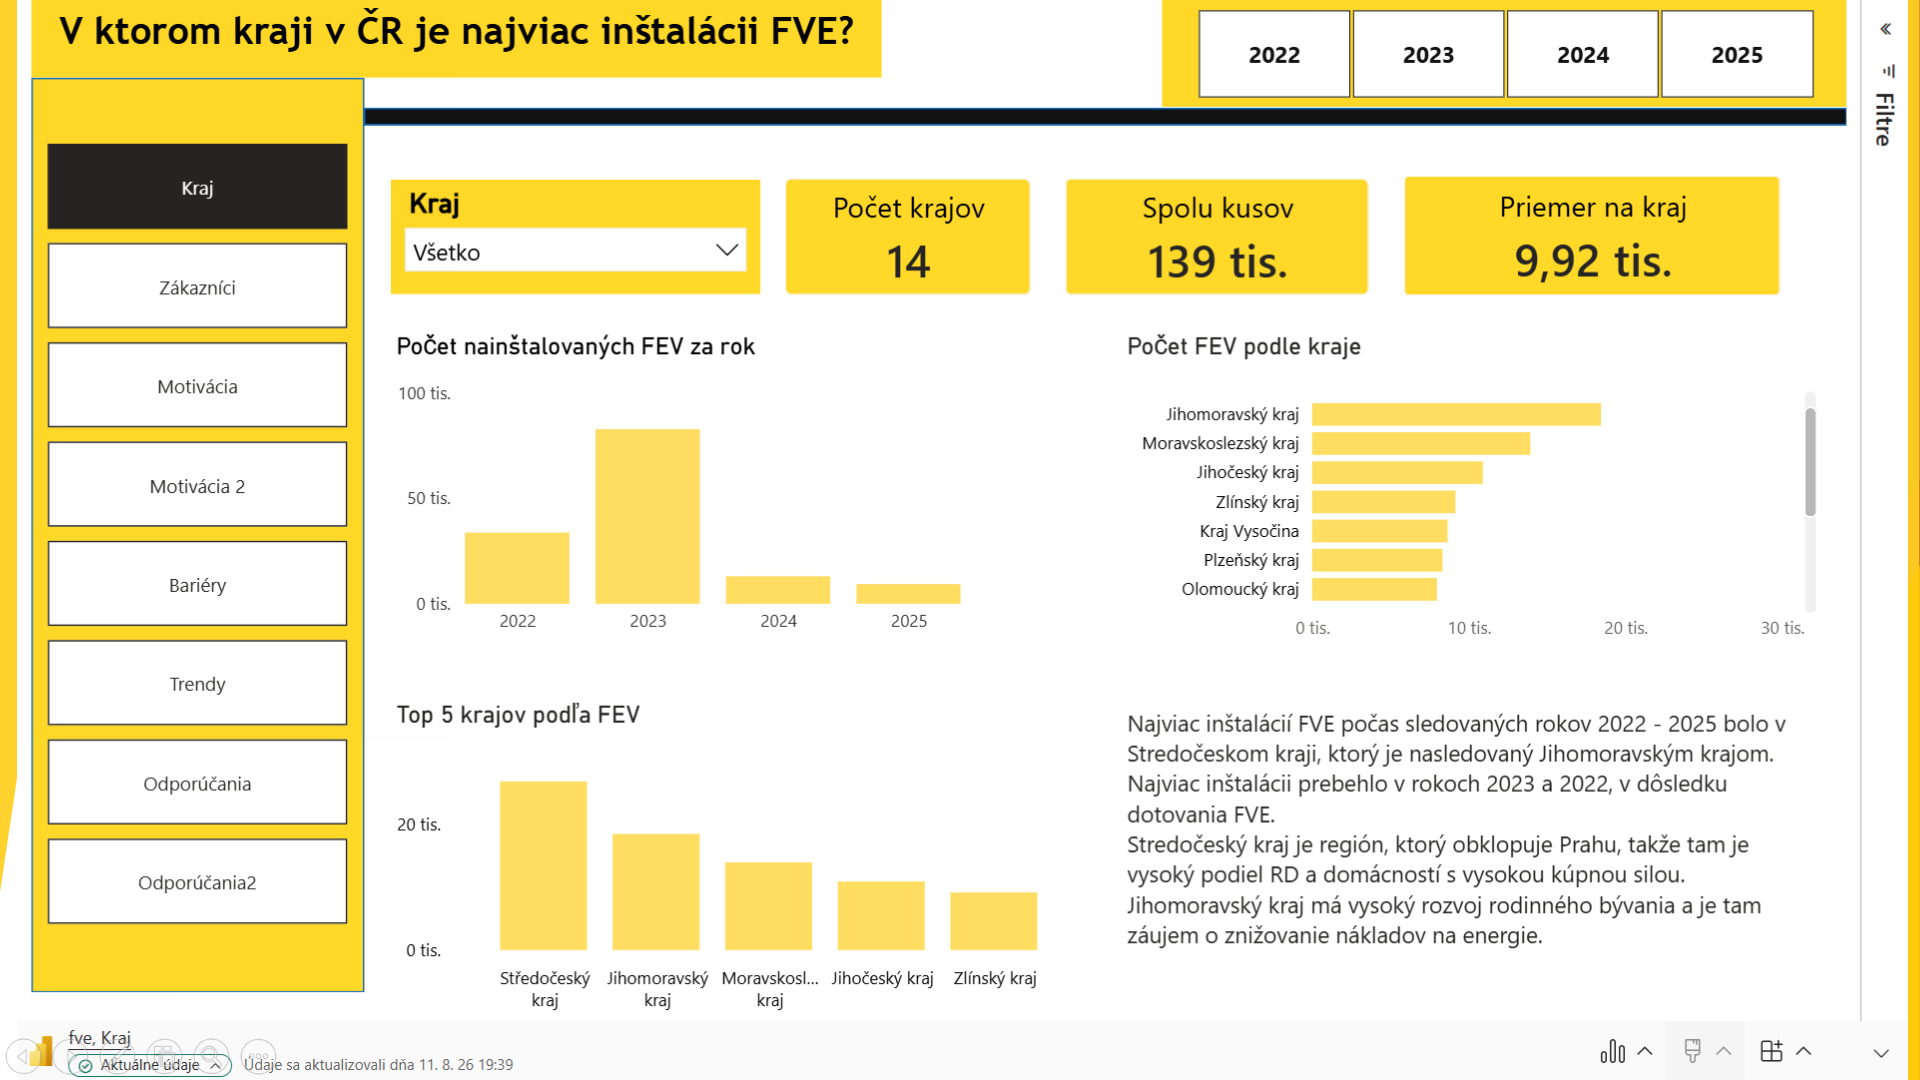

This screenshot's page, from the dashboard's own definition file:
{"tool":"powerbi","page":{"name":"Kraj","canvas":[1280,720],"ordinal":0},"visuals":[{"type":"shape","box":[0,54.9,234.6,644.9],"z":0},{"type":"textbox","box":[0,0,599.7,54.9],"z":1000},{"type":"shape","box":[234.3,75.7,1045.6,12.3],"z":2000},{"type":"slicer","fields":{"Values":["FVE_CR_2022_2026.Rok"]},"box":[797.1,0,483,75.5],"z":3000},{"type":"slicer","fields":{"Values":["FVE_CR_2022_2026.Kraj"]},"box":[252.9,127.1,260.7,81],"z":4000},{"type":"columnChart","title":"Počet nainštalovaných FEV za rok","fields":{"Category":["FVE_CR_2022_2026.Rok"],"Y":["Sum(FVE_CR_2022_2026.Počet ks)"]},"box":[252.5,233.3,407.5,222.3],"z":5000},{"type":"clusteredBarChart","title":"Počet FEV podle kraje","fields":{"Category":["FVE_CR_2022_2026.Kraj"],"Y":["Sum(FVE_CR_2022_2026.Počet ks)"]},"box":[767.1,233.3,495.4,227.8],"z":6000},{"type":"cardVisual","fields":{"Data":["FVE_CR_2022_2026.pocet-kusov"]},"box":[711.4,108.6,248.4,116.6],"z":7000},{"type":"columnChart","title":"Top 5 krajov podľa FEV","fields":{"Category":["FVE_CR_2022_2026.Kraj"],"Y":["Sum(FVE_CR_2022_2026.Počet ks)"]},"box":[252.5,492.6,495.4,227.8],"z":8000},{"type":"cardVisual","fields":{"Data":["FVE_CR_2022_2026.Priemer na kraj"]},"box":[950,107.1,300.5,119.4],"z":9000},{"type":"cardVisual","fields":{"Data":["FVE_CR_2022_2026.pocet-krajov"]},"box":[514.3,108.6,207.2,116.6],"z":10000},{"type":"textbox","box":[767,493,495,227],"z":11000},{"type":"pageNavigator","box":[11.4,101.4,211.4,551.4],"z":12000}]}

Visuals, with their boxes on the page's 1280x720 design canvas (x1, y1, x2, y2). These are canvas units, not pixel positions in the 1920x1080 screenshot, which may show the page scaled, cropped or inside an application window:
shape: [0,55,235,700]
textbox: [0,0,600,55]
shape: [234,76,1280,88]
slicer - FVE_CR_2022_2026.Rok: [797,0,1280,76]
slicer - FVE_CR_2022_2026.Kraj: [253,127,514,208]
"Počet nainštalovaných FEV za rok" columnChart: [252,233,660,456]
"Počet FEV podle kraje" clusteredBarChart: [767,233,1262,461]
cardVisual - FVE_CR_2022_2026.pocet-kusov: [711,109,960,225]
"Top 5 krajov podľa FEV" columnChart: [252,493,748,720]
cardVisual - FVE_CR_2022_2026.Priemer na kraj: [950,107,1250,226]
cardVisual - FVE_CR_2022_2026.pocet-krajov: [514,109,722,225]
textbox: [767,493,1262,720]
pageNavigator: [11,101,223,653]
